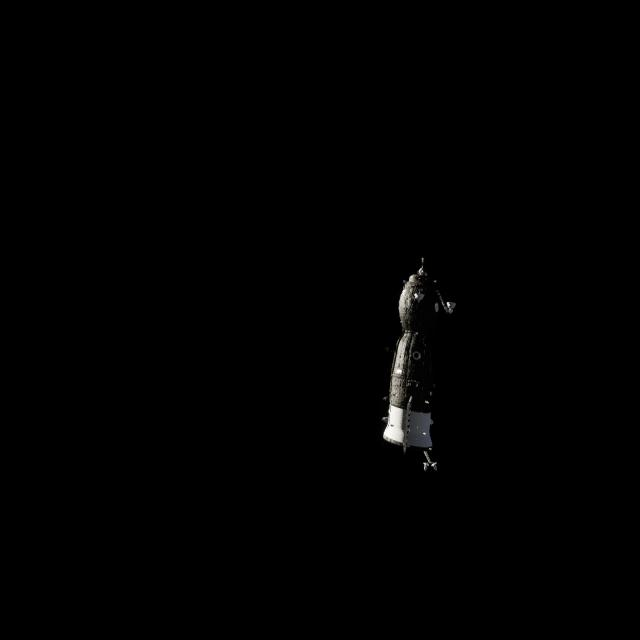Satellites revolving around earth: (379, 255, 460, 474)
